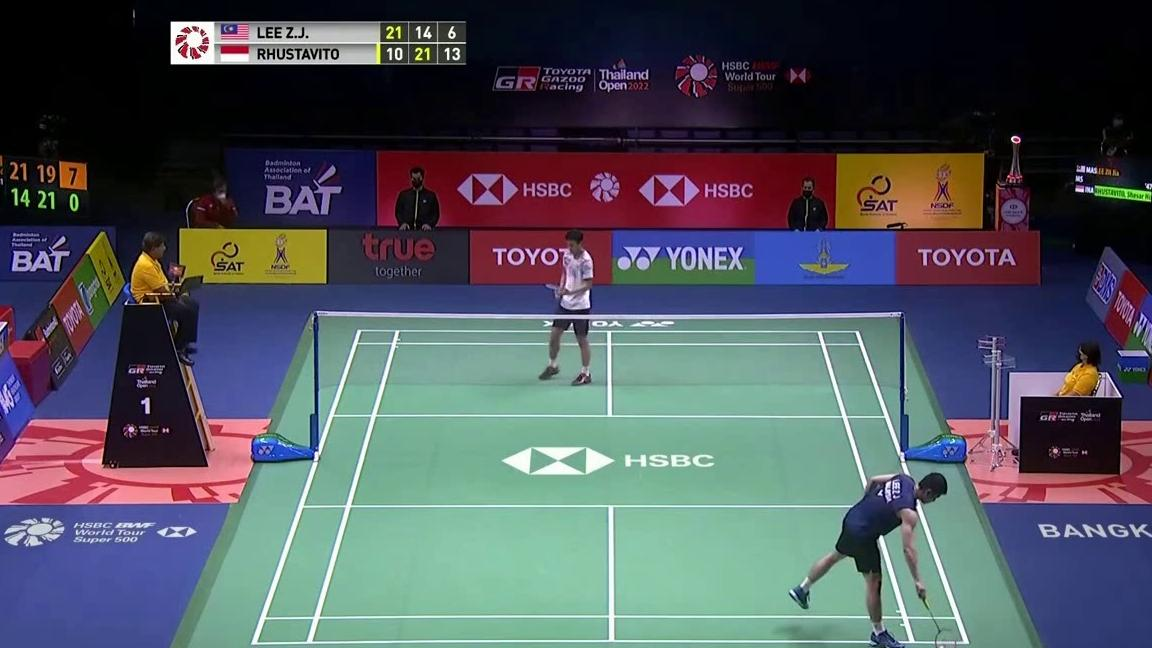racket: (918, 590, 959, 648), (544, 280, 568, 301)
shuttle: (935, 644, 948, 648)
